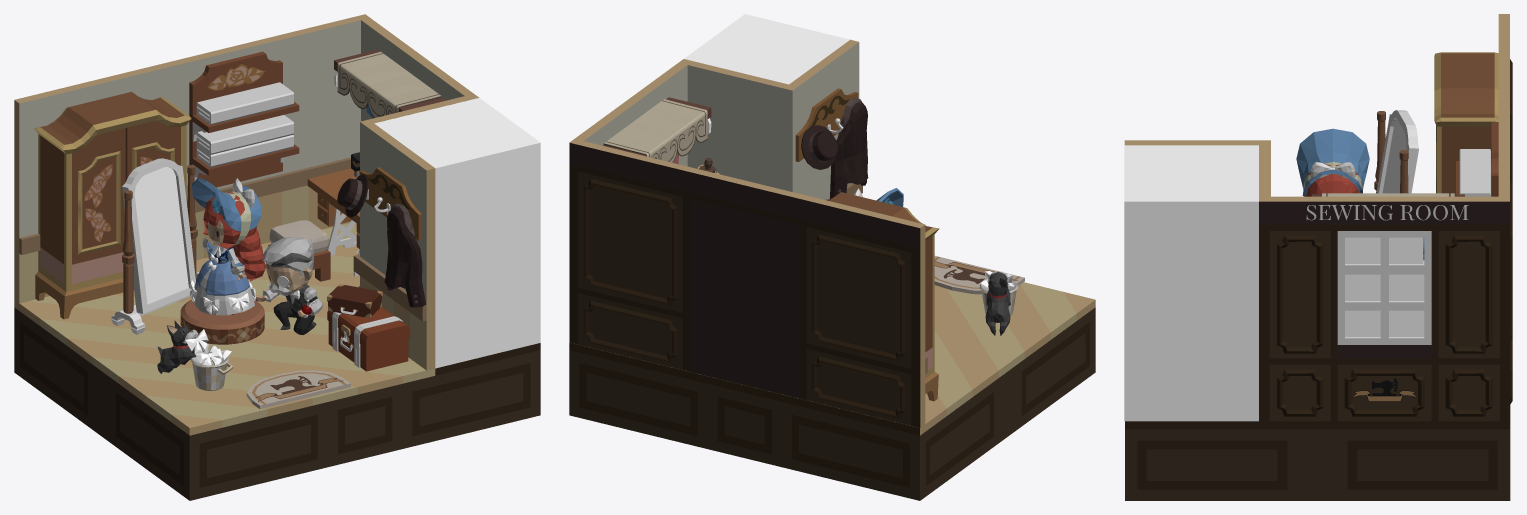
File: 0054_tailorHouse.fbx
3 renders of one model, left to right at view 1: azimuth 30°, elevation 25°; view 2: azimuth 150°, elevation 25°; view 3: azimuth 270°, elevation 25°, orthographic. The views are drawn at different scales.
Parts seen in each view (by area): view 1: Floor, Wall_Glass, Wall02, wardrobe, Wall01, Fabric_Rack, Mirror_Glass, fabricRoller_board, Trunk, Mirror_Body, Girl_Cos_Head, hanger_jacket (+19 smaller); view 2: Wall02, Floor, Wall01, Wall_Glass, fabricRoller_board, wardrobe, hanger_jacket, Mat, hanger, Schnauzer, hanger_fedora; view 3: Wall01, Wall_Glass, Floor, wardrobe, Window_Glass (×6), Window_Frame, Girl_Cos_Head, Wall02, Fabric_Blue, Mirror_Body, Mirror_Glass, Wall_Sign01 (+6 smaller).
Part boxes in pixels (<box>): Floor: <box>14,223,540,500</box>; Wall_Glass: <box>374,98,540,368</box>; Wall02: <box>14,14,364,303</box>; wardrobe: <box>34,91,191,319</box>; Wall01: <box>353,14,478,370</box>; Fabric_Rack: <box>189,51,299,187</box>; Mirror_Glass: <box>134,167,188,304</box>; fabricRoller_board: <box>334,50,445,117</box>; Trunk: <box>327,307,410,371</box>; Mirror_Body: <box>122,158,195,313</box>; Girl_Cos_Head: <box>192,177,265,281</box>; hanger_jacket: <box>384,203,425,307</box>; Wall02: <box>569,141,927,427</box>; Floor: <box>569,282,1095,500</box>; Wall01: <box>569,39,862,342</box>; Wall_Glass: <box>684,14,849,84</box>; fabricRoller_board: <box>603,97,711,162</box>; wardrobe: <box>826,192,939,401</box>; hanger_jacket: <box>830,97,868,198</box>; Mat: <box>934,256,1024,294</box>; hanger: <box>795,88,858,161</box>; Schnauzer: <box>985,271,1010,335</box>; hanger_fedora: <box>801,125,838,169</box>; Wall01: <box>1124,140,1510,421</box>; Wall_Glass: <box>1124,145,1258,421</box>; Floor: <box>1125,421,1510,500</box>; wardrobe: <box>1434,52,1498,194</box>; Window_Glass (×6): <box>1345,237,1424,336</box>; Window_Frame: <box>1337,231,1431,344</box>; Girl_Cos_Head: <box>1296,128,1369,196</box>; Wall02: <box>1498,14,1512,403</box>; Fabric_Blue: <box>1459,149,1490,196</box>; Mirror_Body: <box>1376,110,1418,193</box>; Mirror_Glass: <box>1382,119,1406,193</box>; Wall_Sign01: <box>1306,205,1468,220</box>.
Bounding box in the file's own units: 8.95 × 6.62 × 7.78.
